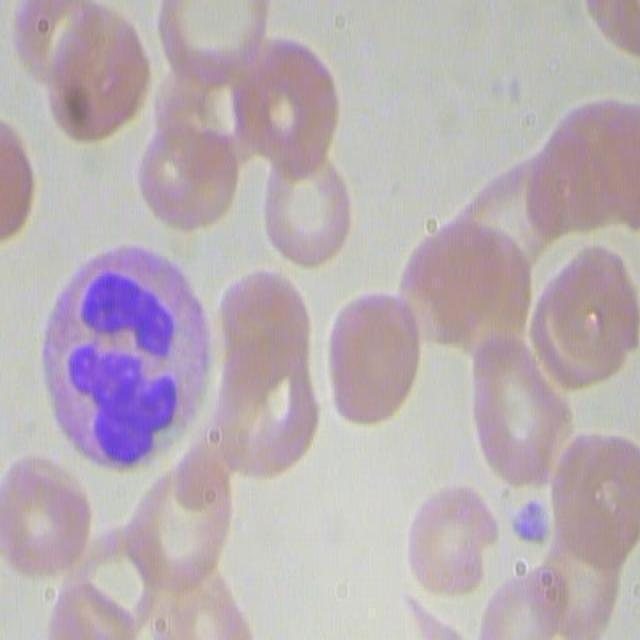Platelets: (507, 500, 554, 553)
RBC: (461, 325, 592, 495), (524, 237, 639, 395), (37, 3, 156, 152), (229, 28, 343, 175), (128, 447, 242, 593), (321, 286, 423, 442), (397, 469, 503, 604), (0, 453, 102, 591), (134, 109, 243, 235), (259, 140, 360, 272), (549, 424, 639, 569)
WBC: (27, 236, 228, 473)
